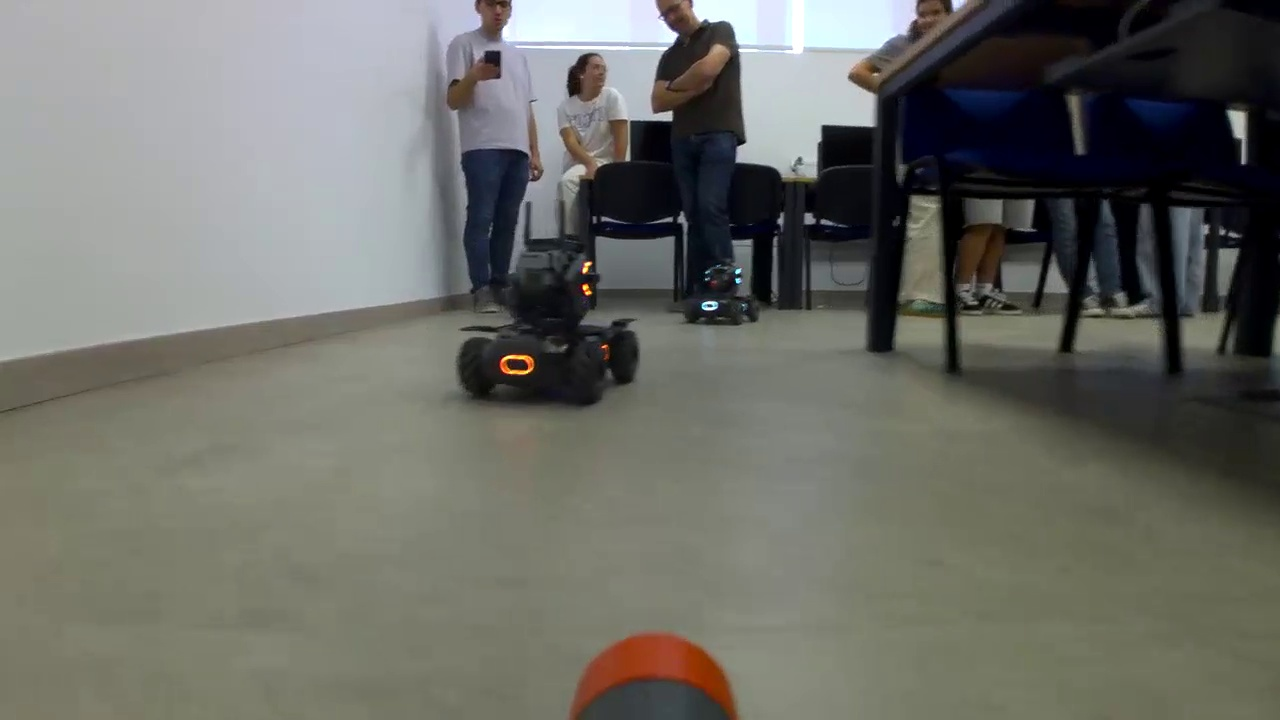robot: (458, 229, 641, 400), (688, 268, 748, 325)
